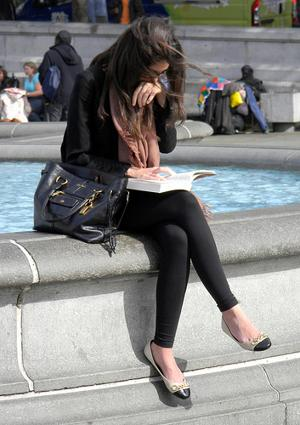person: (60, 17, 272, 399)
